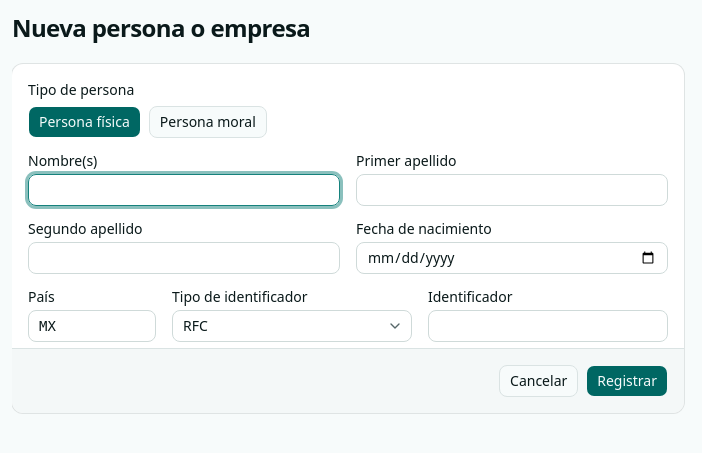
CreatePartyPage › points a server-side field error of the person at its input
In the field labelled "Nombre(s)": (184, 190) [28,174,340,206], type "Ana María"
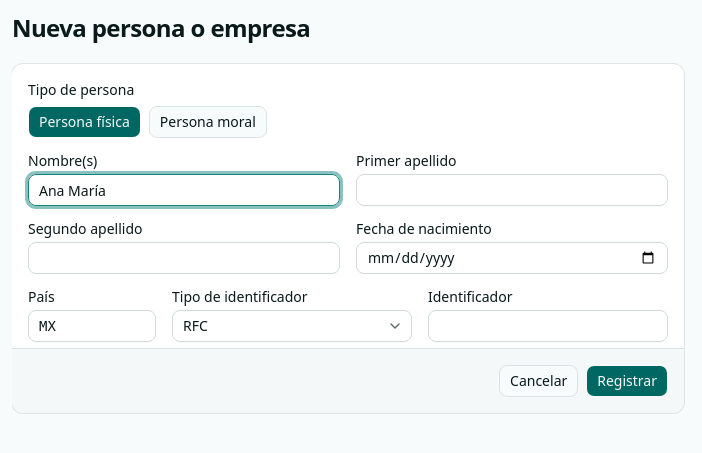
In the field labelled "Primer apellido": (512, 190) [356,174,668,206], type "Pérez"
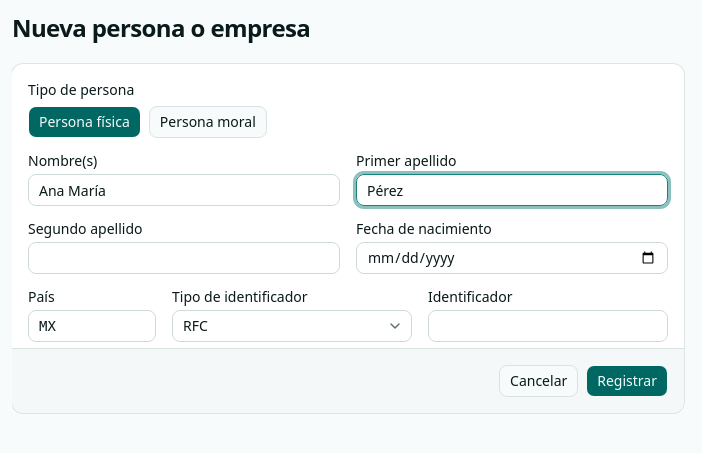
In the field labelled "Identificador": (548, 326) [428,310,668,342], type "CACX7605101P8"
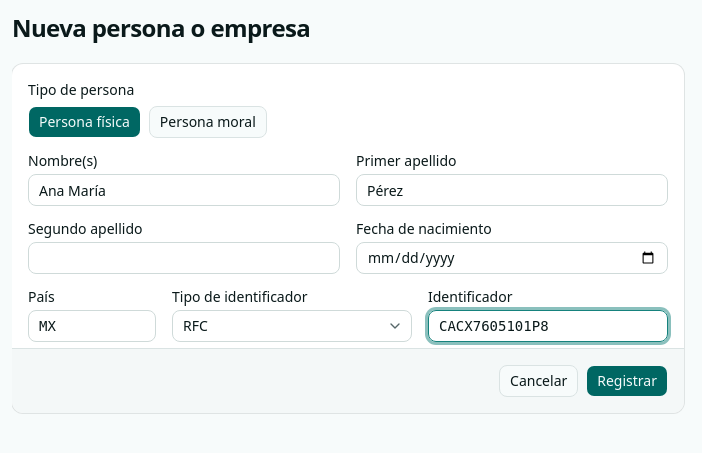
Click the button "Registrar": (627, 381) [586,365,668,397]
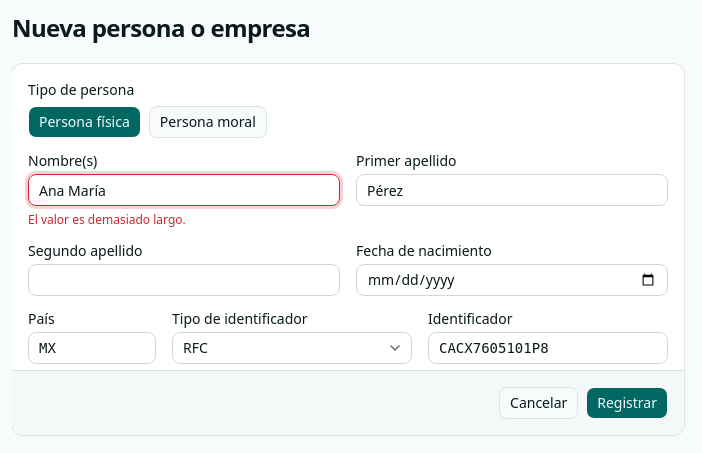
Check: the text "El valor es demasiado largo." is shown, box [28,211,186,228]
